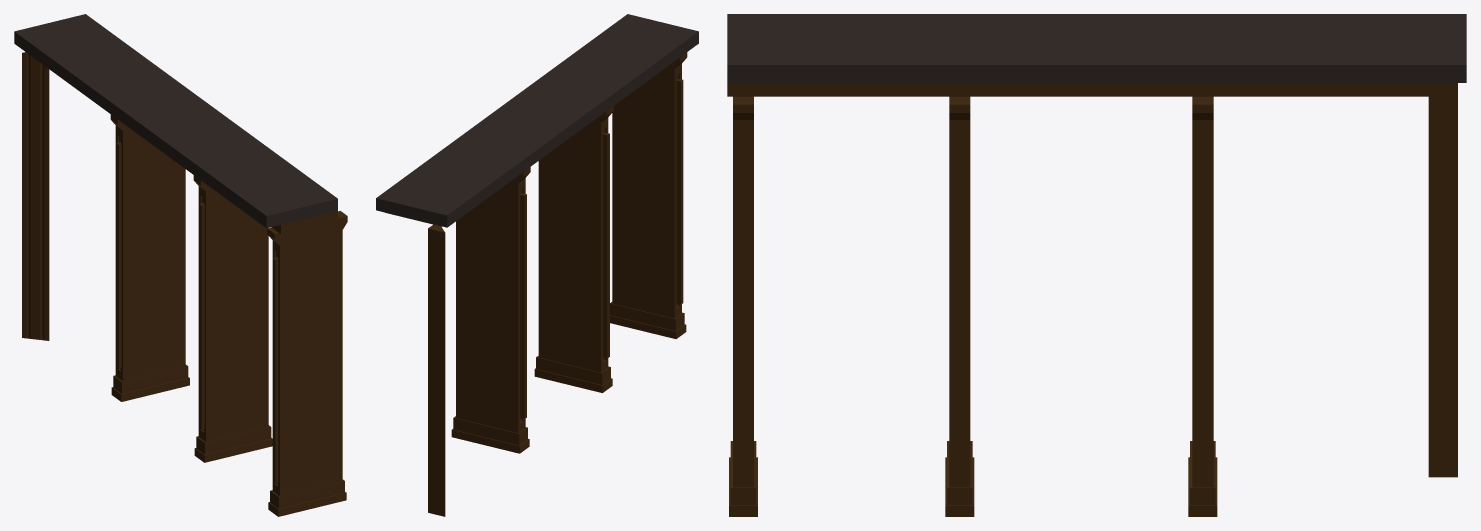
Rendered from estructuraEstanterias1.fbx.
The picture shows the model from 3 angles, left to right: view 1: azimuth 30°, elevation 25°; view 2: azimuth 150°, elevation 25°; view 3: azimuth 270°, elevation 25°; orthographic projection. The views are drawn at different scales.
Parts seen in each view (by area): view 1: Estructura1; view 2: Estructura1; view 3: Estructura1.
Boxes of the visible parts, x1,y1,x2,y2 form: Estructura1: (14,14,347,516); Estructura1: (376,14,698,516); Estructura1: (727,14,1466,516).
Size of the model in its own units: 61.59 by 217 by 325.
